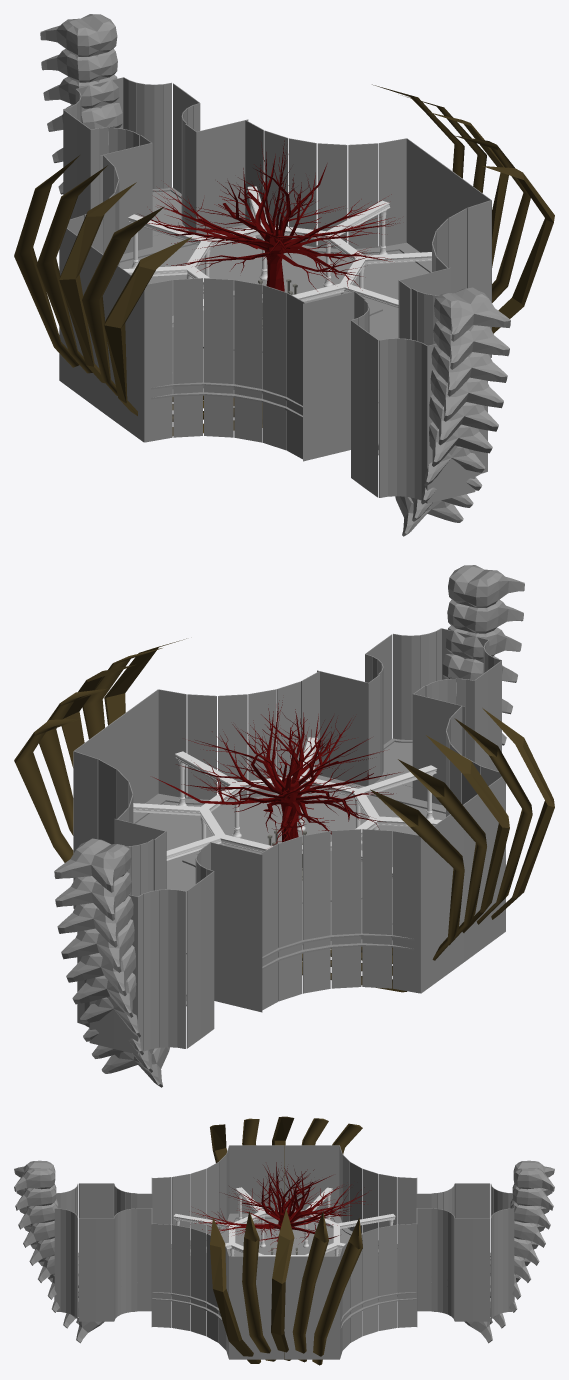
The model's file is stage04 after.FBX.
The picture shows the model from 3 angles, top to bottom: view 1: azimuth 30°, elevation 25°; view 2: azimuth 150°, elevation 25°; view 3: azimuth 270°, elevation 25°; orthographic projection. The views are drawn at different scales.
Parts seen in each view (by area): view 1: Wall, Skeleton_lowPoly004, Object076, Object027, Object026, Object074, wall019, wall020, wall018, wall021, wall017, wall022 (+15 smaller); view 2: Wall, Skeleton_lowPoly004, Object074, Object027, Object026, Object076, wall031, wall034, wall033, wall032, wall035, wall017 (+16 smaller); view 3: Wall, Skeleton_lowPoly004, Object074, Object076, Object026, wall024, wall017, wall031, wall010, Object027, wall016, wall030 (+20 smaller).
Boxes of the visible parts, x1,y1,x2,y2 form: Wall: (63, 77, 487, 503); Skeleton_lowPoly004: (14, 84, 554, 435); Object076: (395, 287, 510, 536); Object027: (119, 187, 431, 455); Object026: (139, 140, 397, 291); Object074: (40, 14, 122, 194); wall019: (173, 278, 202, 437); wall020: (204, 278, 233, 437); wall018: (144, 280, 172, 442); wall021: (234, 280, 262, 442); wall017: (101, 254, 144, 442); wall022: (262, 285, 286, 450); Wall: (77, 628, 501, 1054); Skeleton_lowPoly004: (14, 638, 554, 992); Object074: (54, 838, 169, 1087); Object027: (133, 738, 445, 1006); Object026: (153, 700, 400, 846); Object076: (442, 565, 524, 745); wall031: (420, 805, 463, 993); wall034: (331, 829, 361, 988); wall033: (362, 829, 391, 988); wall032: (392, 831, 420, 993); wall035: (303, 831, 330, 993); wall017: (463, 776, 505, 962); Wall: (54, 1178, 514, 1326); Skeleton_lowPoly004: (210, 1116, 362, 1365); Object074: (464, 1160, 554, 1343); Object076: (14, 1160, 104, 1343); Object026: (192, 1162, 368, 1250); wall024: (284, 1256, 339, 1359); wall017: (229, 1145, 284, 1213); wall031: (284, 1145, 339, 1213); wall010: (229, 1256, 284, 1359); Object027: (78, 1213, 490, 1331); wall016: (152, 1223, 171, 1327); wall030: (397, 1223, 416, 1327).
Bounding box in the file's own units: 340 × 194 × 541.
